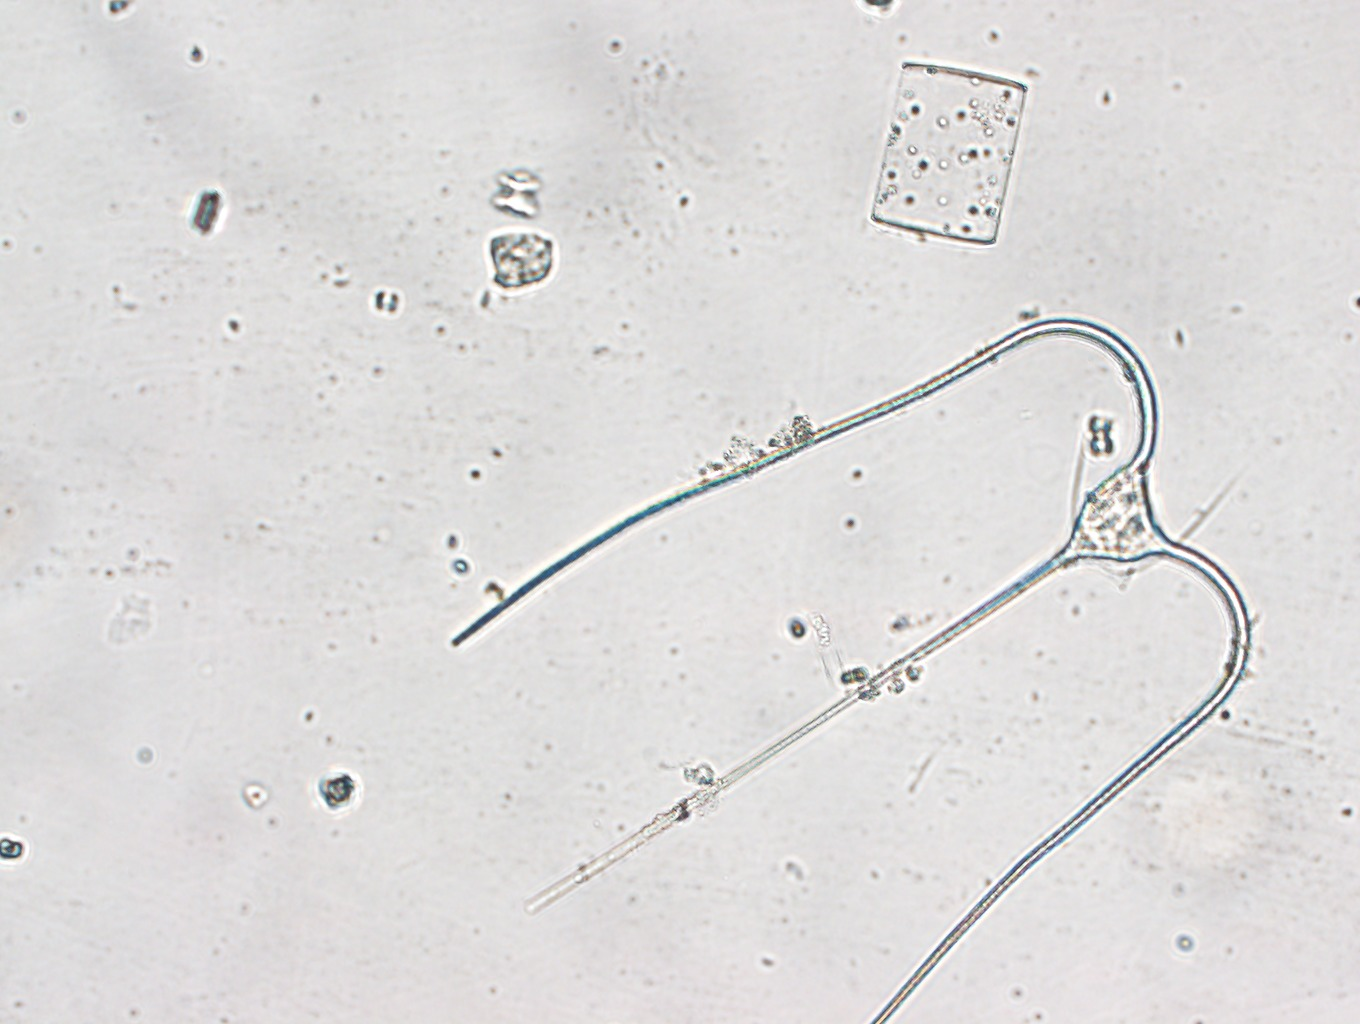ceratium trichoceros: (450, 316, 1250, 1020)
guinardia flaccida: (868, 62, 1027, 245)
